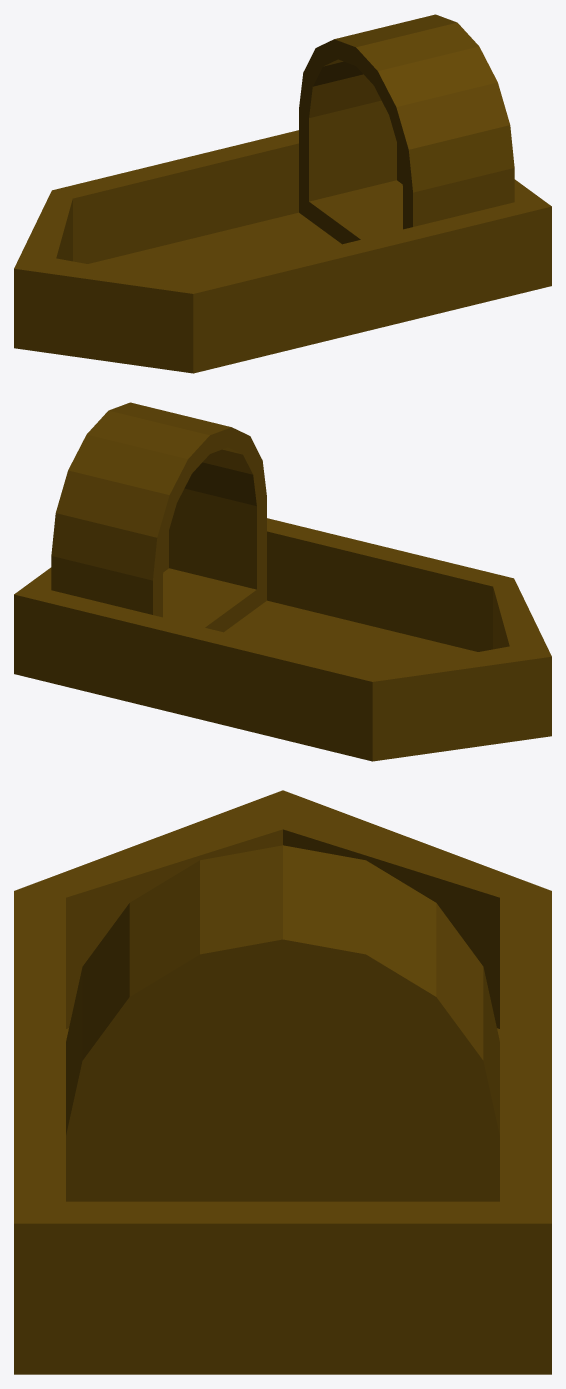
Rendered from Test_Boat1.fbx.
3 renders of one model, top to bottom at view 1: azimuth 30°, elevation 25°; view 2: azimuth 150°, elevation 25°; view 3: azimuth 270°, elevation 25°, orthographic. The views are drawn at different scales.
Visible parts, largest first — view 1: Cube; view 2: Cube; view 3: Cube.
Boxes of the visible parts, left/top/right/bottom form: Cube: left=14, top=14, right=551, bottom=373; Cube: left=14, top=402, right=551, bottom=761; Cube: left=14, top=790, right=551, bottom=1374.
Bounding box in the file's own units: 261 × 116 × 137.
